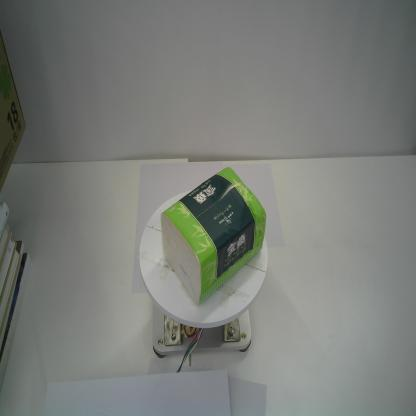Tissue: (159, 164, 268, 307)
